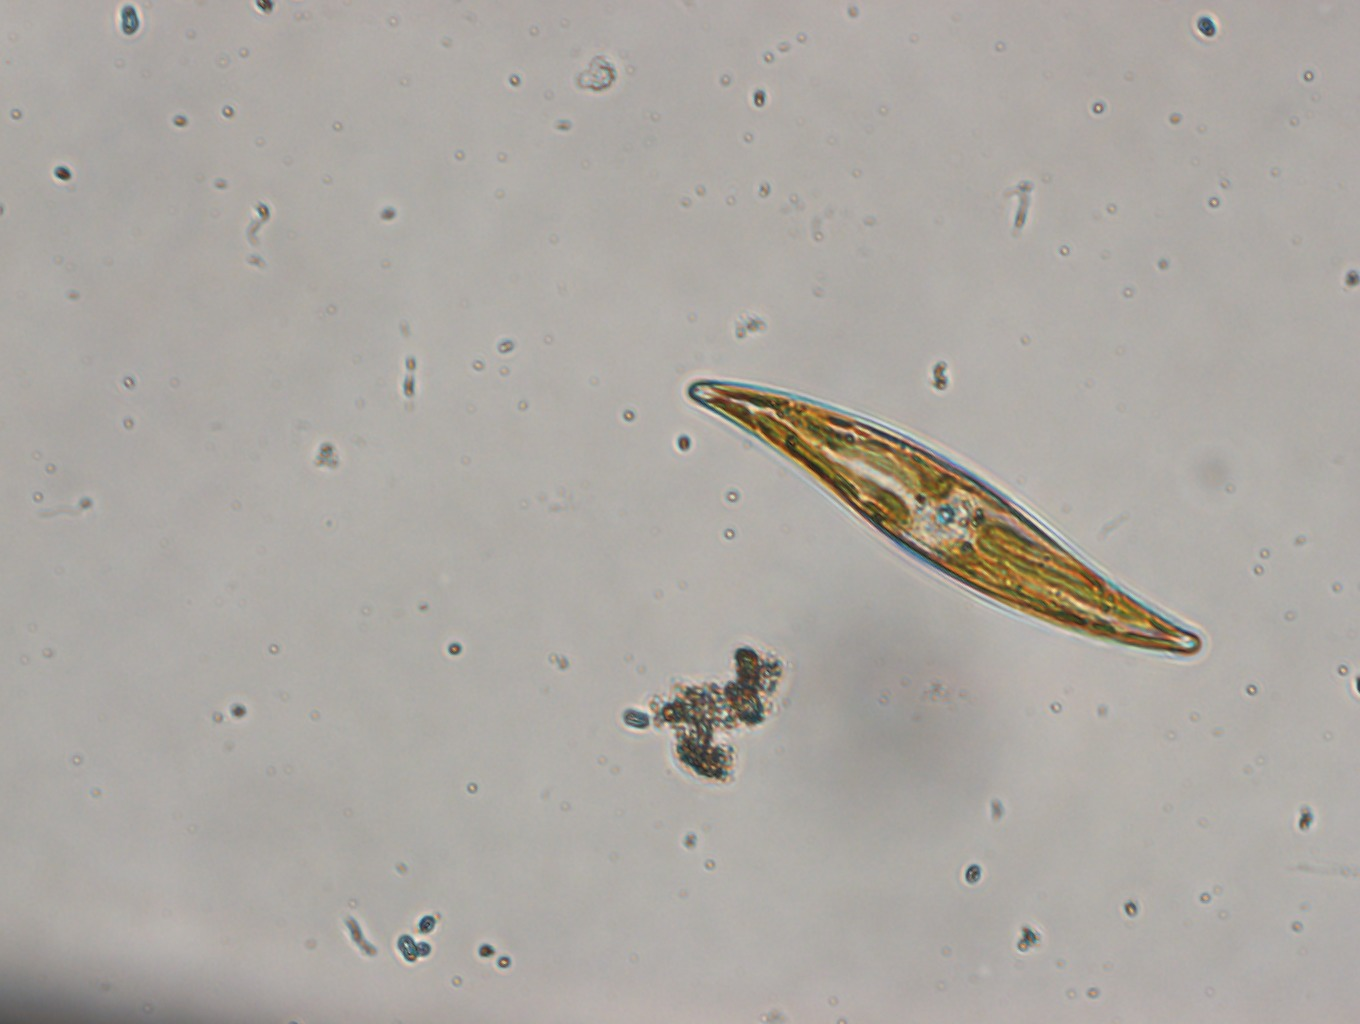pleurosigma pelagicum: (683, 378, 1202, 656)
